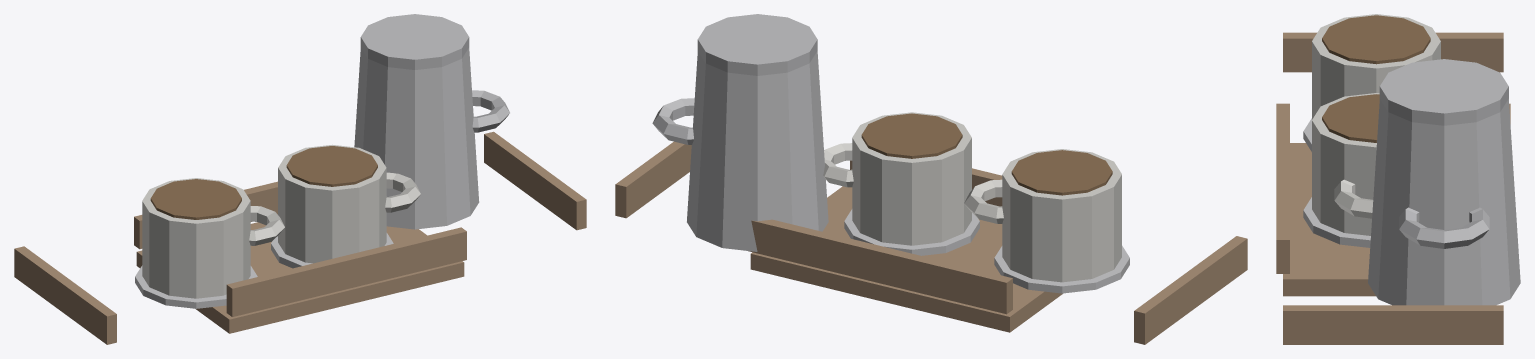
File: aces_bandeja_cafe.glb
3 views of the same model, side by side, from view 1: azimuth 30°, elevation 25°; view 2: azimuth 150°, elevation 25°; view 3: azimuth 270°, elevation 25° (orthographic). The views are drawn at different scales.
Visible parts, largest first — view 1: ACES_BANDEJA_CAFE; view 2: ACES_BANDEJA_CAFE; view 3: ACES_BANDEJA_CAFE.
Boxes of the visible parts, left/top/right/bottom form: ACES_BANDEJA_CAFE: left=14, top=14, right=586, bottom=344; ACES_BANDEJA_CAFE: left=615, top=14, right=1247, bottom=344; ACES_BANDEJA_CAFE: left=1276, top=14, right=1520, bottom=344.
Bounding box in the file's own units: 0.388 × 0.1435 × 0.144.
